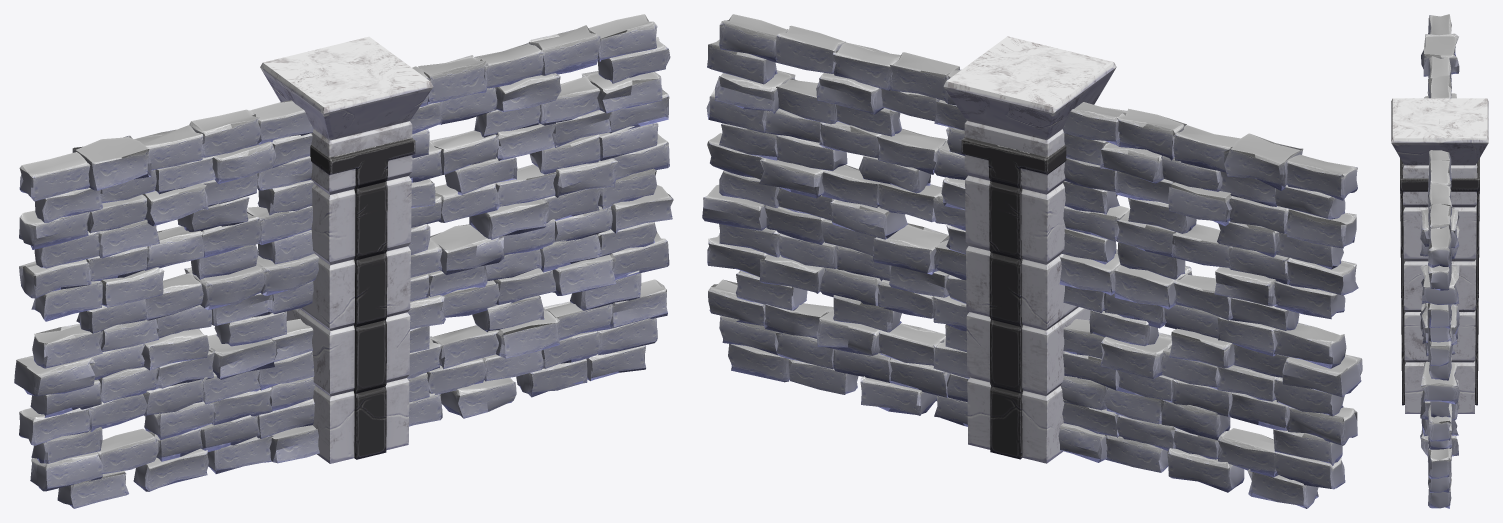
The model's file is WallBrick.fbx.
3 views of the same model, side by side, from view 1: azimuth 30°, elevation 25°; view 2: azimuth 150°, elevation 25°; view 3: azimuth 270°, elevation 25° (orthographic). The views are drawn at different scales.
Parts seen in each view (by area): view 1: Cube, Cube.001; view 2: Cube, Cube.001; view 3: Cube.001, Cube.
Part boxes in pixels (x1=…): Cube: x1=14, y1=14, x2=673, y2=508; Cube.001: x1=260, y1=36, x2=433, y2=463; Cube: x1=702, y1=14, x2=1362, y2=508; Cube.001: x1=943, y1=36, x2=1116, y2=463; Cube.001: x1=1391, y1=98, x2=1488, y2=413; Cube: x1=1420, y1=14, x2=1459, y2=508.
Bounding box in the file's own units: 5488 × 3005 × 942.
